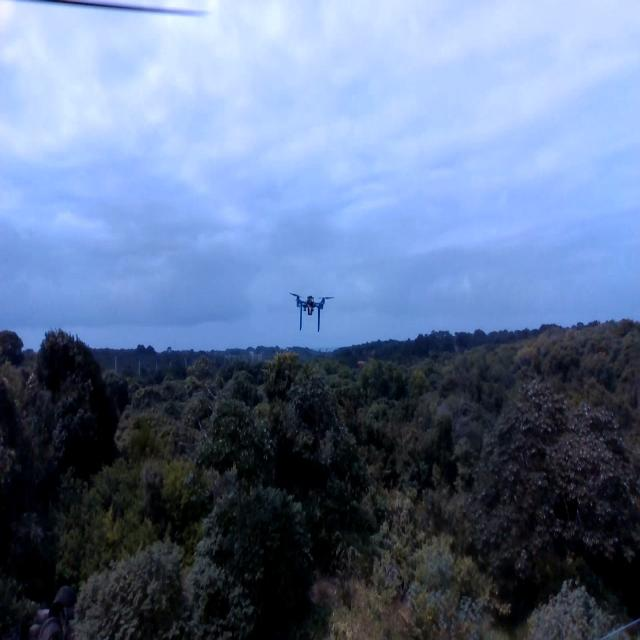-uav-: (286, 278, 335, 338)
